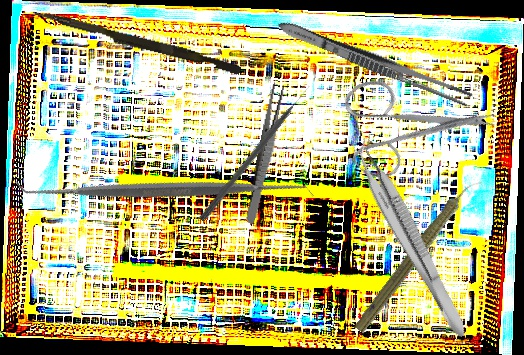Dressing Forceps: (273, 15, 477, 110), (244, 81, 287, 226)
Handpiece: (351, 170, 485, 339)
Iris Scissors: (317, 30, 500, 213)
Pusher: (198, 83, 314, 224), (30, 9, 243, 75)
Spatula Surgical: (15, 40, 314, 338)
Tissue Forceps: (344, 134, 481, 341)
